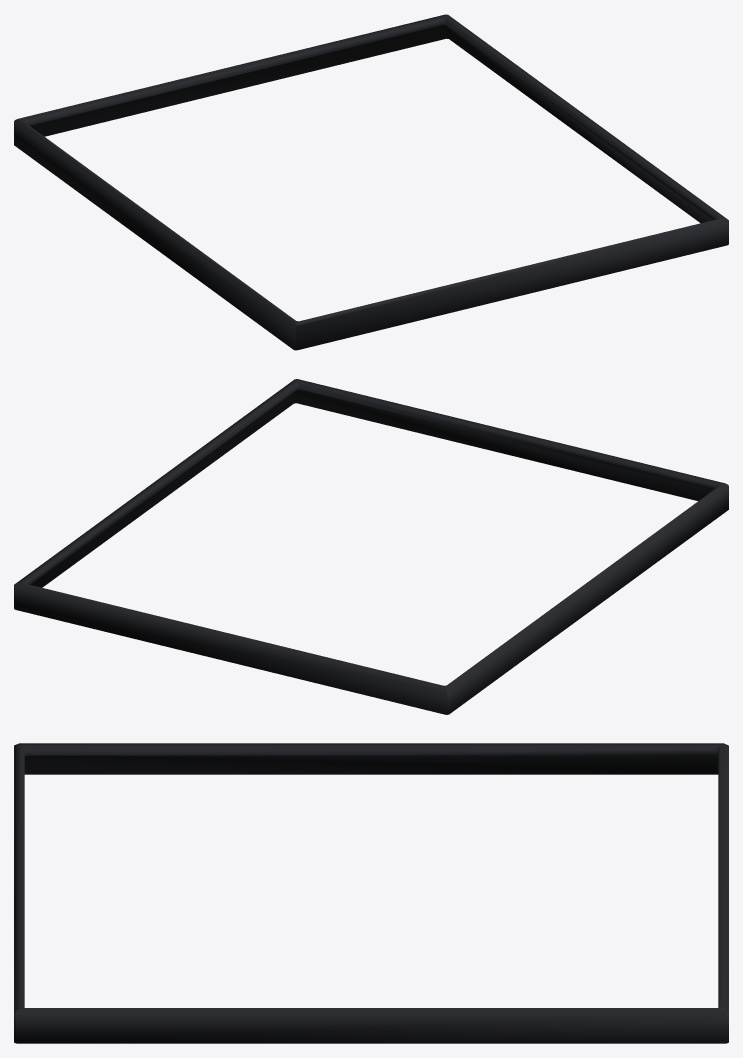
The model's file is Monitor_3.fbx.
3 renders of one model, top to bottom at view 1: azimuth 30°, elevation 25°; view 2: azimuth 150°, elevation 25°; view 3: azimuth 270°, elevation 25°, orthographic. The views are drawn at different scales.
Visible parts, largest first — view 1: Monitor_3; view 2: Monitor_3; view 3: Monitor_3.
Boxes of the visible parts, x1,y1,x2,y2 form: Monitor_3: (14, 14, 728, 350); Monitor_3: (14, 379, 728, 714); Monitor_3: (14, 743, 728, 1043).
Bounding box in the file's own units: 17.85 × 1 × 20.04.
Materials: 1 (1 with a texture image).
